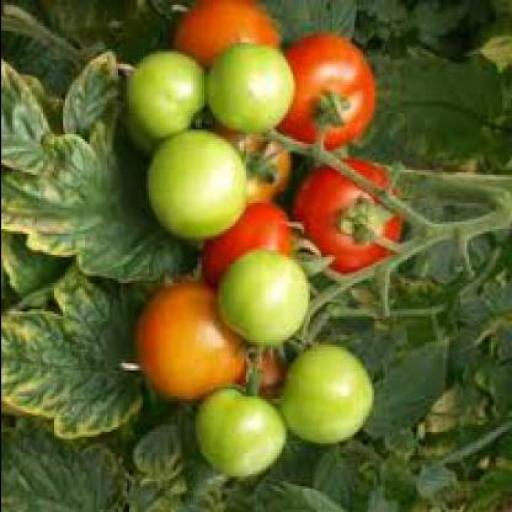biodegradable: (296, 156, 408, 271), (136, 281, 242, 396), (222, 241, 340, 340), (281, 31, 379, 146), (150, 128, 254, 234), (280, 340, 376, 442), (196, 382, 289, 475), (124, 47, 207, 151), (169, 0, 284, 71), (206, 200, 300, 286), (205, 40, 296, 127), (216, 122, 296, 196), (245, 340, 292, 396)
